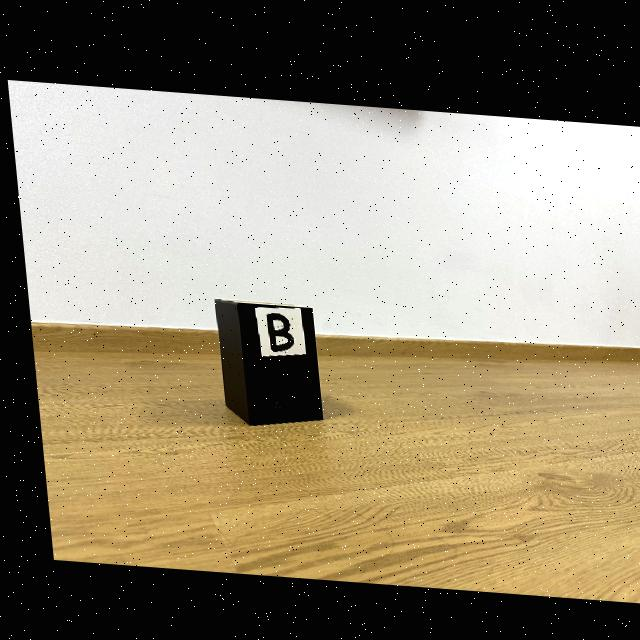B: (261, 309, 289, 349)
